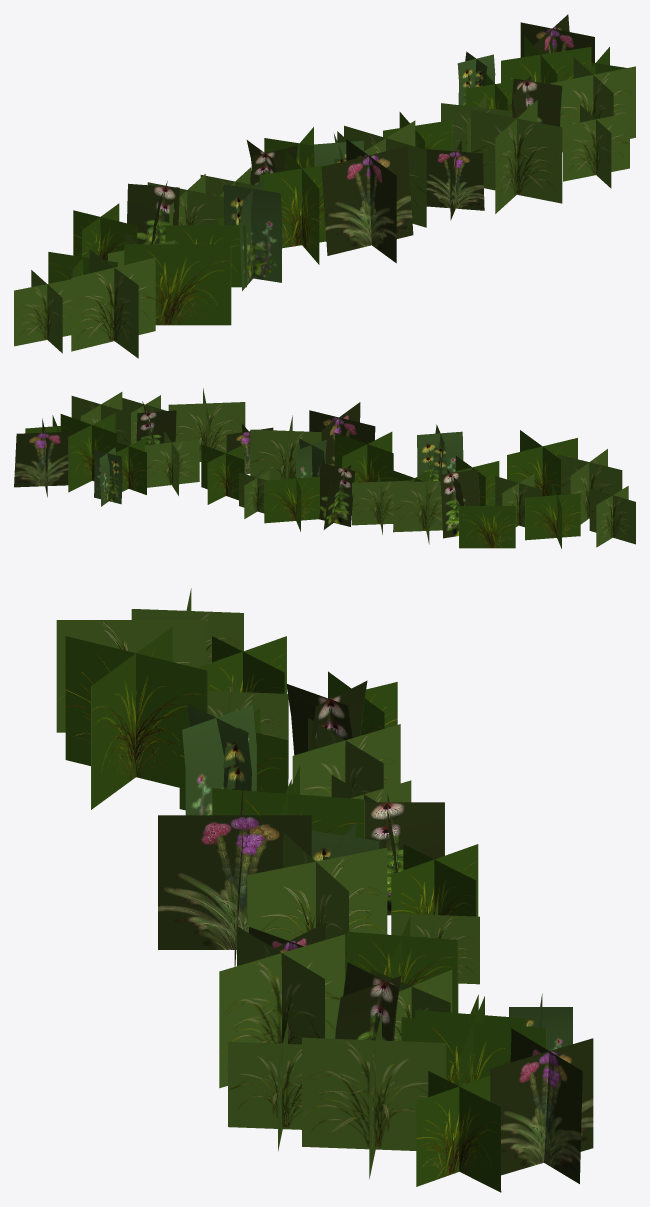
The model's file is grass01.fbx.
3 views of the same model, one above another, from view 1: azimuth 30°, elevation 25°; view 2: azimuth 150°, elevation 25°; view 3: azimuth 270°, elevation 25° (orthographic). The views are drawn at different scales.
Parts seen in each view (by area): view 1: grass01; view 2: grass01; view 3: grass01.
Boxes of the visible parts, <box> form: grass01: <box>14,14,635,358</box>; grass01: <box>14,388,635,548</box>; grass01: <box>56,588,593,1192</box>.
Bounding box in the file's own units: 4.94 × 0.6172 × 2.15.
